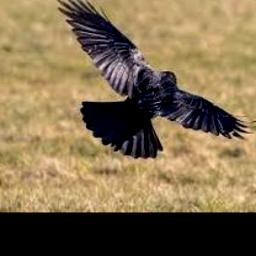Crow: (53, 0, 256, 158)
